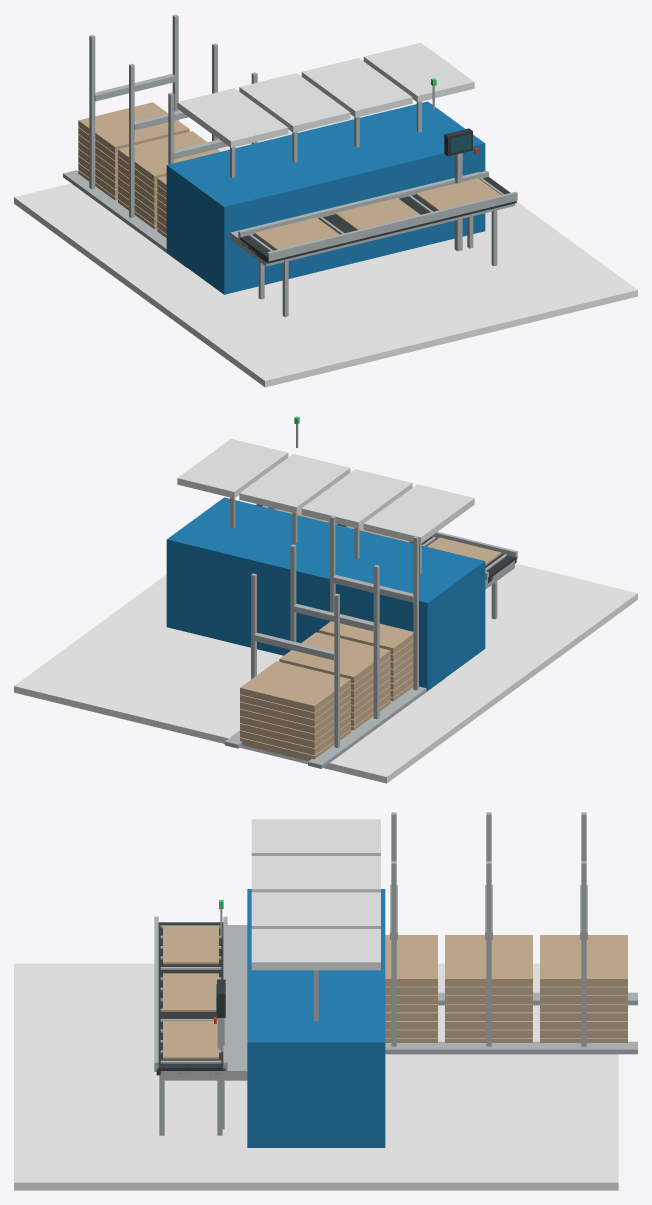
3 renders of one model, top to bottom at view 1: azimuth 30°, elevation 25°; view 2: azimuth 150°, elevation 25°; view 3: azimuth 270°, elevation 25°, orthographic. The views are drawn at different scales.
Visible parts, largest first — view 1: Factory floor, Evo main blue chassis, Evo upper panel, Evo upper panel.001, Evo upper panel.002, Evo upper panel.003, Evo output conveyance side rail, Fanfold stacked corrugate.023, Fanfold stacked corrugate.015, Evo output conveyance deck, Evo output conveyance side rail.001, Flat cut cardboard blank.001 (+10 smaller); view 2: Factory floor, Evo main blue chassis, Evo upper panel, Evo upper panel.002, Evo upper panel.003, Evo upper panel.001, Fanfold stacked corrugate.023, Fanfold stacked corrugate.015, Fanfold stacked corrugate.007, Material rack upright.002, Material rack upright, Material rack upright.004 (+17 smaller); view 3: Factory floor, Evo main blue chassis, Evo upper panel.003, Evo upper panel, Evo upper panel.002, Evo upper panel.001, Fanfold stacked corrugate.015, Fanfold stacked corrugate.023, Evo steel output table, Evo output conveyance deck, Fanfold stacked corrugate.007, Flat cut cardboard blank (+22 smaller).
Part boxes in pixels (x1,y1,x2,y2): Factory floor: (14, 109, 637, 387); Evo main blue chassis: (166, 101, 485, 294); Evo upper panel: (177, 88, 288, 147); Evo upper panel.001: (239, 73, 350, 132); Evo upper panel.002: (301, 58, 412, 117); Evo upper panel.003: (363, 42, 474, 102); Evo output conveyance side rail: (267, 191, 517, 261); Fanfold stacked corrugate.023: (78, 102, 189, 153); Fanfold stacked corrugate.015: (118, 131, 220, 182); Evo output conveyance deck: (239, 177, 516, 263); Evo output conveyance side rail.001: (238, 170, 488, 239); Flat cut cardboard blank.001: (335, 198, 420, 230); Factory floor: (14, 563, 637, 783); Evo main blue chassis: (166, 497, 485, 690); Evo upper panel: (363, 484, 474, 543); Evo upper panel.002: (239, 454, 350, 513); Evo upper panel.003: (177, 439, 288, 498); Evo upper panel.001: (301, 469, 412, 528); Fanfold stacked corrugate.023: (240, 661, 350, 712); Fanfold stacked corrugate.015: (279, 632, 390, 683); Fanfold stacked corrugate.007: (319, 614, 413, 654); Material rack upright.002: (373, 565, 379, 719); Material rack upright: (413, 536, 418, 690); Material rack upright.004: (334, 593, 339, 748); Factory floor: (14, 963, 618, 1190); Evo main blue chassis: (247, 889, 385, 1147); Evo upper panel.003: (251, 929, 380, 970); Evo upper panel: (251, 819, 380, 855); Evo upper panel.002: (251, 892, 380, 928); Evo upper panel.001: (251, 856, 380, 892); Fanfold stacked corrugate.015: (445, 935, 532, 986); Fanfold stacked corrugate.023: (540, 935, 627, 986); Evo steel output table: (160, 925, 247, 1080); Evo output conveyance deck: (156, 922, 225, 1075); Fanfold stacked corrugate.007: (385, 935, 437, 986); Flat cut cardboard blank: (163, 926, 218, 964).
Bounding box in the file's own units: 6 × 2.82 × 7.22.
